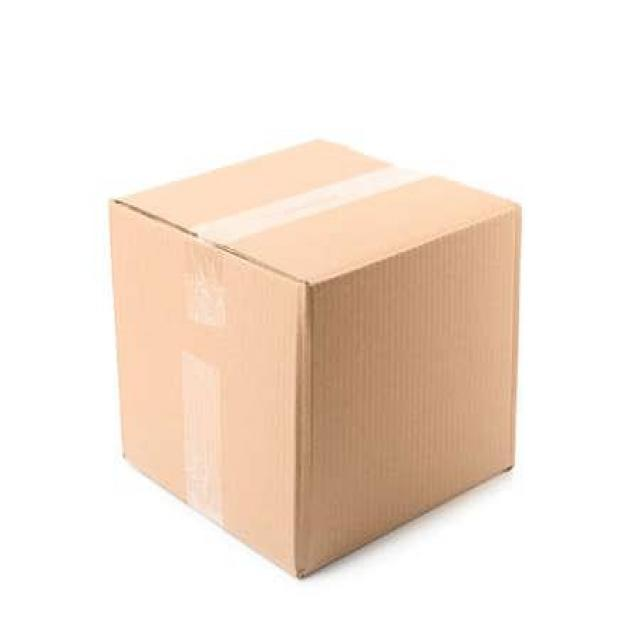box: (103, 132, 520, 578)
